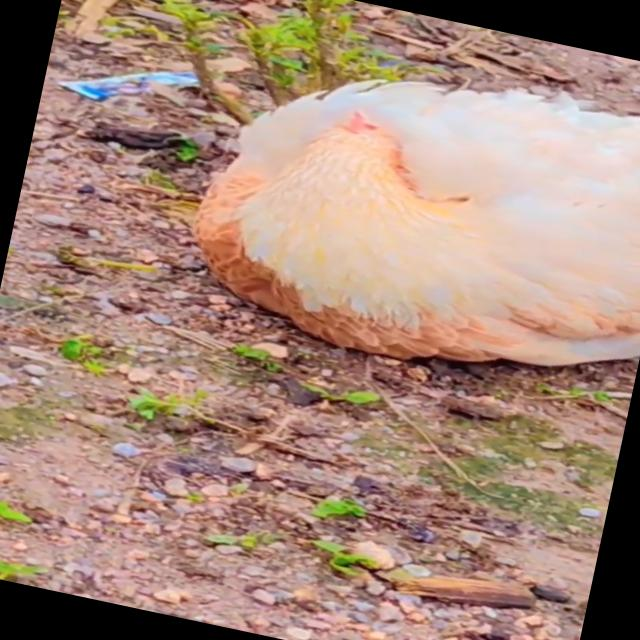sleeping chickens: (164, 0, 640, 411)
